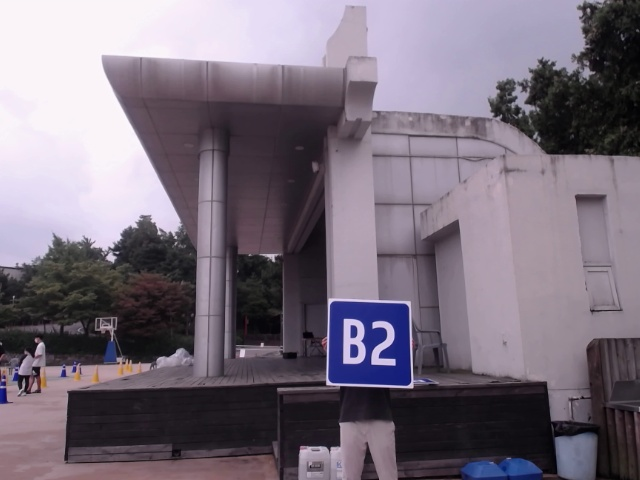delivery_b2: (331, 302, 411, 385)
